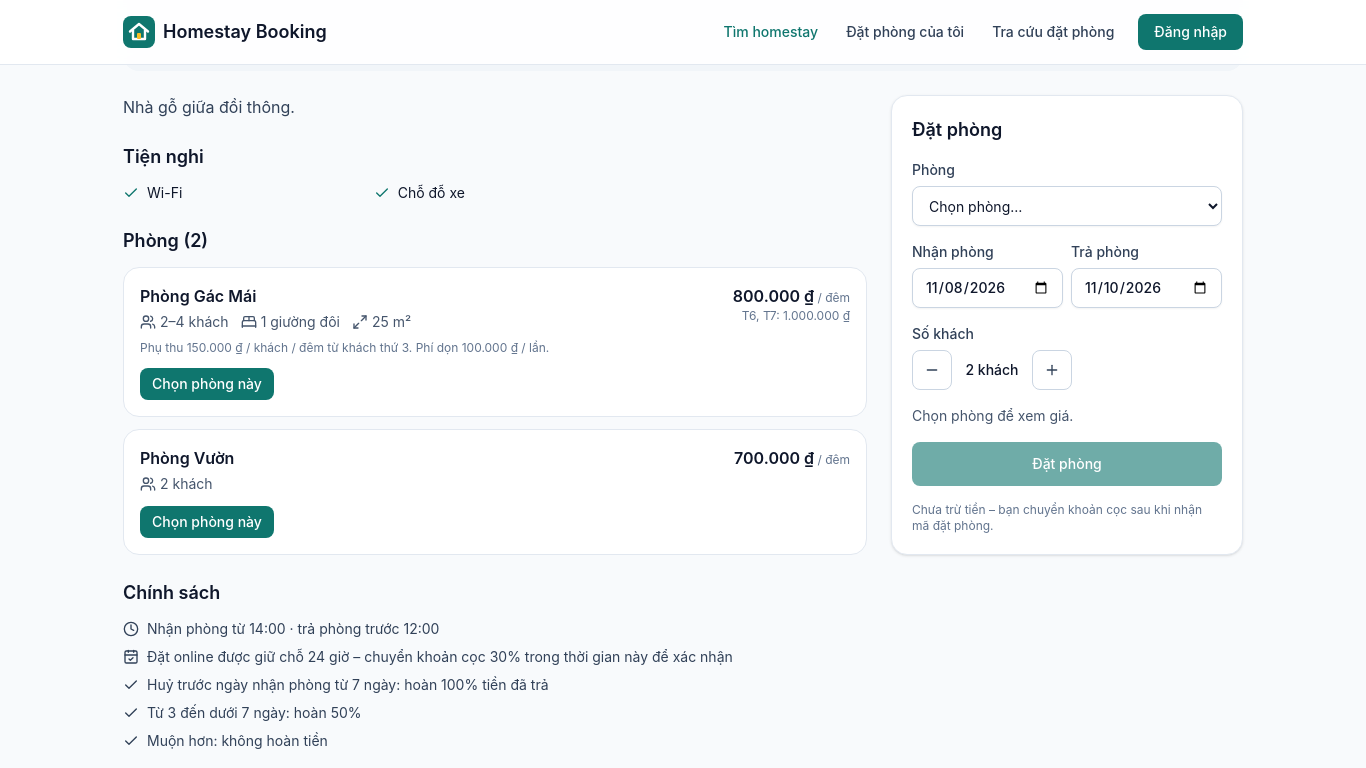
chi tiết homestay › chọn phòng → báo giá từng đêm → nút đặt dẫn tới /book giữ ngày + số khách
(page scrolled)
Expected: the list item "Huỷ trước ngày nhận phòng từ 7 ngày: hoàn 100% tiền đã trả" is shown, top-left (123, 676), bottom-right (549, 693)
Expected: the text "Chọn phòng để xem giá." is shown, top-left (912, 407), bottom-right (1073, 424)
Click the button "Chọn phòng này" below "Phòng Gác Mái" at (207, 384), box top-left (140, 368), bottom-right (274, 400)
(page scrolled)
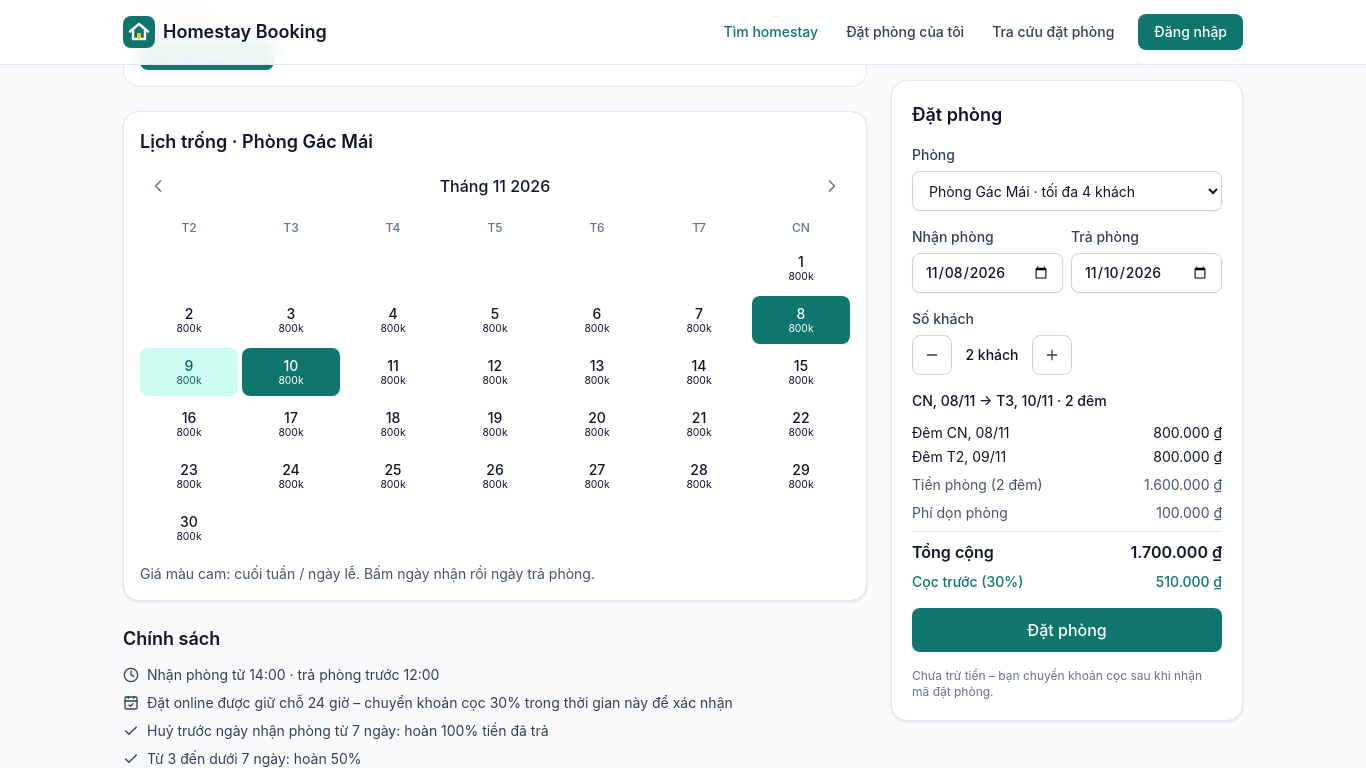
Expected: the text "Tổng cộng" is shown, top-left (912, 540), bottom-right (994, 564)
Expected: the text "1.700.000 ₫" is shown, top-left (1130, 540), bottom-right (1222, 564)
Expected: the table named "Lịch trống Phòng Gác Mái" is shown, top-left (140, 216), bottom-right (850, 552)
